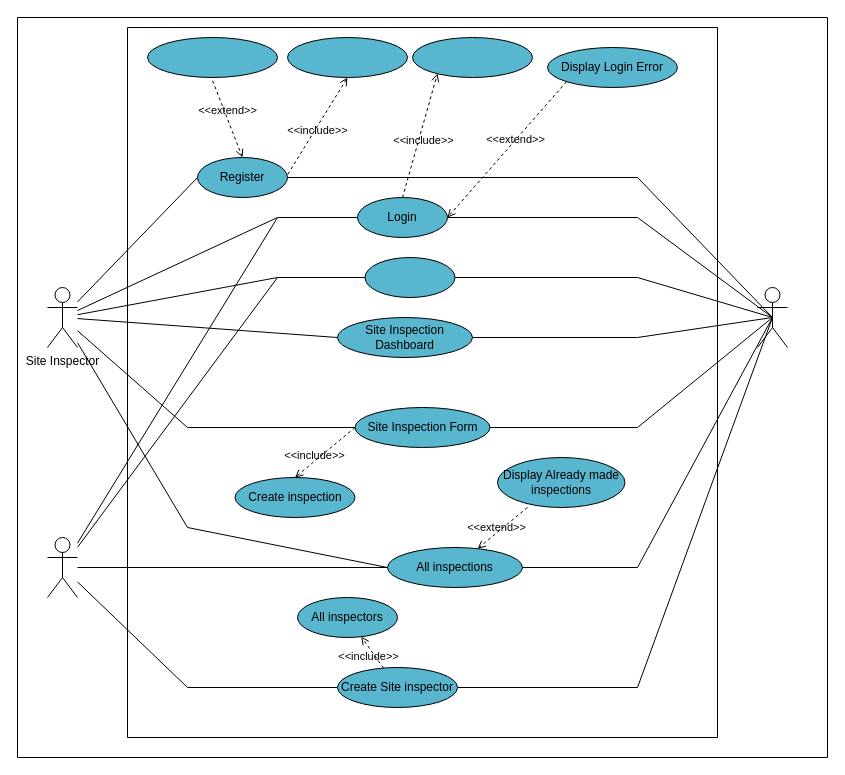
This 845x775 diagram has some shape labels left out. Each missing label, with the centre of its shape:
Create an Account: the point at 347,57
Display Register Error: the point at 212,57
Feedback Provider: the point at 772,317
Logout: the point at 409,277
Manager: the point at 62,567
Verify Credentials: the point at 472,57
